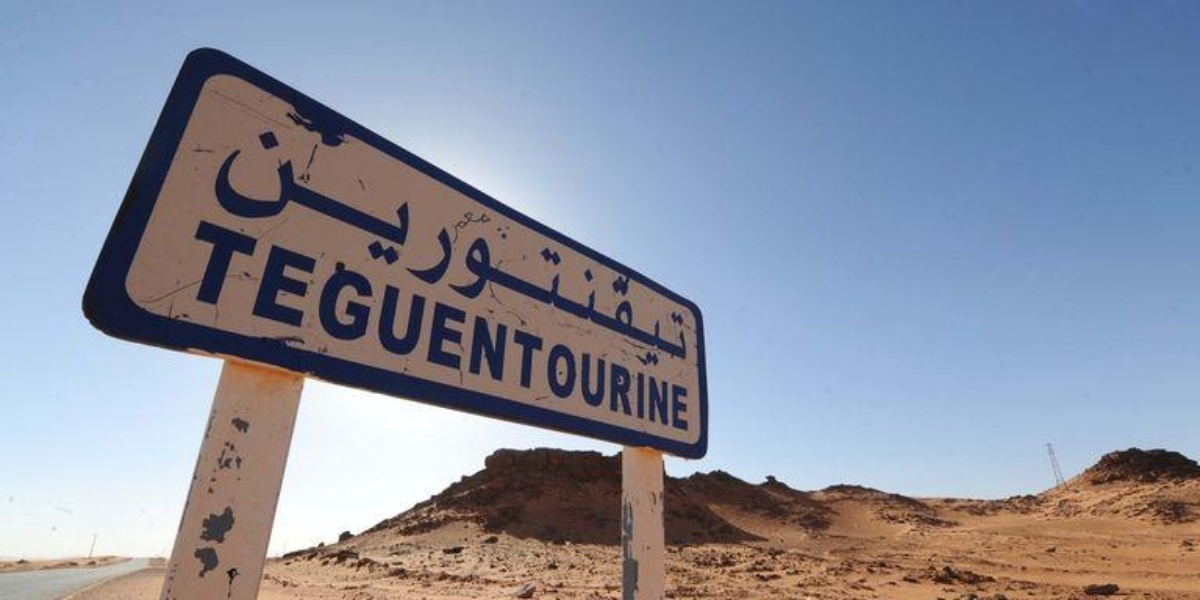text: (257, 113, 272, 376), (273, 113, 288, 376), (289, 113, 304, 376), (305, 113, 320, 376), (321, 113, 336, 376), (337, 113, 352, 376), (353, 113, 368, 376), (369, 113, 384, 376), (385, 113, 400, 376), (401, 113, 416, 376), (417, 113, 432, 376), (433, 113, 448, 376), (449, 113, 464, 376), (465, 113, 480, 376), (481, 113, 496, 376), (497, 113, 512, 376), (513, 113, 528, 376), (529, 113, 544, 376), (545, 113, 560, 376), (561, 113, 576, 376), (577, 113, 592, 376), (593, 113, 608, 376), (609, 113, 624, 376), (625, 113, 640, 376), (641, 113, 656, 376), (657, 113, 672, 376), (673, 113, 688, 376), (243, 113, 256, 376), (209, 213, 224, 438), (225, 213, 240, 438), (241, 213, 256, 438), (257, 213, 272, 438), (273, 213, 288, 438), (289, 213, 304, 438), (305, 213, 320, 438), (321, 213, 336, 438), (337, 213, 352, 438), (353, 213, 368, 438), (369, 213, 384, 438), (385, 213, 400, 438), (401, 213, 416, 438), (417, 213, 432, 438), (433, 213, 448, 438), (449, 213, 464, 438), (465, 213, 480, 438), (481, 213, 496, 438), (497, 213, 512, 438), (513, 213, 528, 438), (529, 213, 544, 438), (545, 213, 560, 438), (561, 213, 576, 438), (577, 213, 592, 438), (593, 213, 608, 438), (609, 213, 624, 438), (625, 213, 640, 438), (641, 213, 656, 438), (657, 213, 672, 438), (673, 213, 688, 438), (197, 213, 208, 438), (689, 213, 694, 438), (689, 113, 690, 376)
